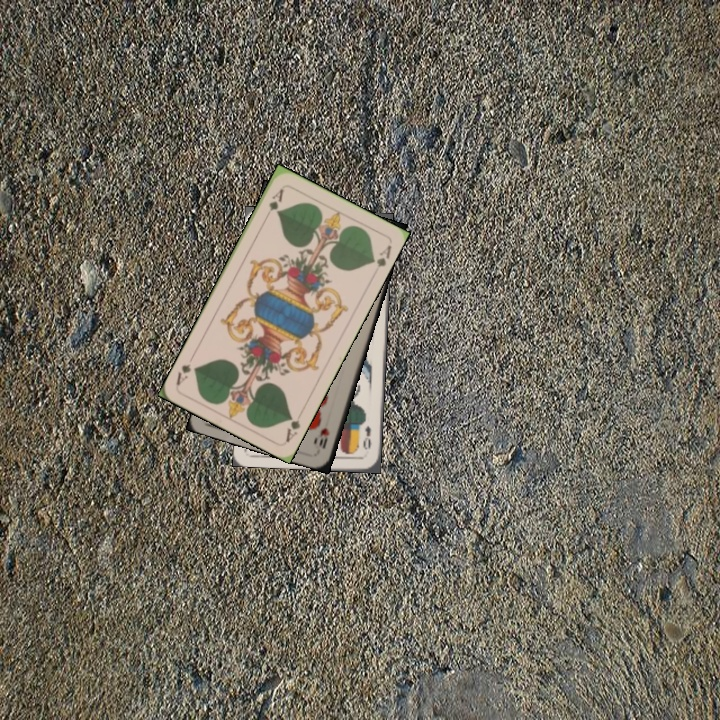EO: (359, 422, 373, 452)
GA: (261, 185, 286, 220), (282, 412, 303, 445)
H10: (315, 424, 332, 451)
